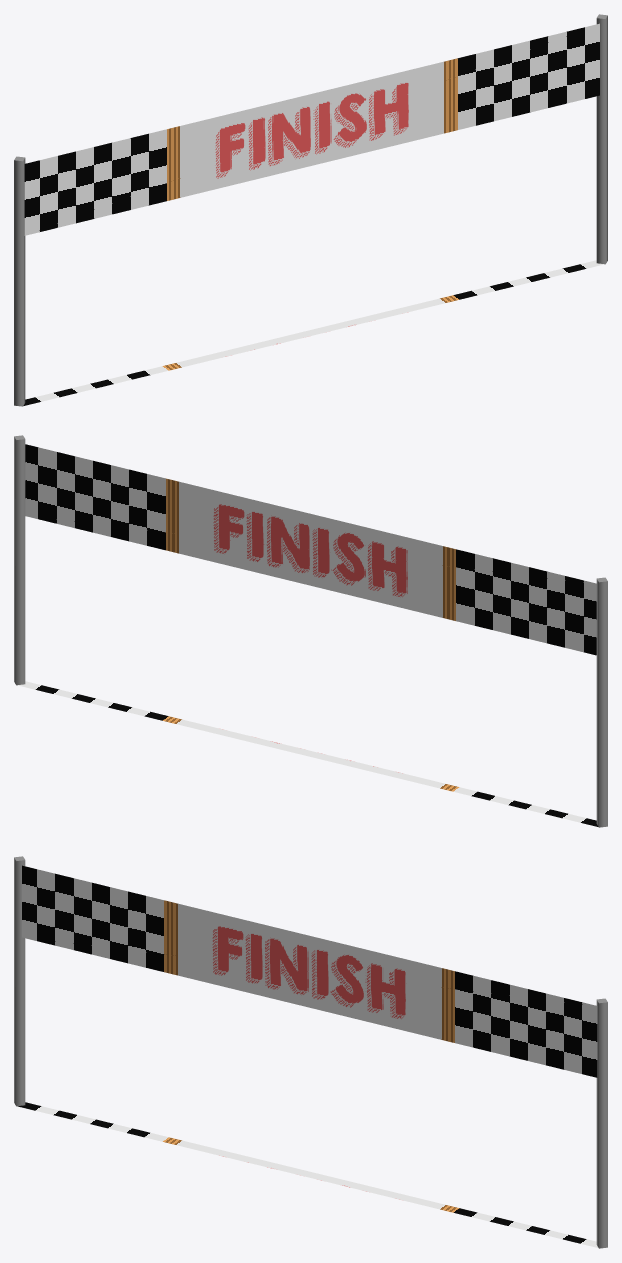
File: finish_flag.glb
3 renders of one model, top to bottom at view 1: azimuth 30°, elevation 25°; view 2: azimuth 150°, elevation 25°; view 3: azimuth 330°, elevation 25°, orthographic.
Parts seen in each view (by area): view 1: finish_flag, Cylinder; view 2: finish_flag, Cylinder; view 3: finish_flag, Cylinder.
Part boxes in pixels (x1=…): finish_flag: x1=23, y1=23, x2=603, y2=405; Cylinder: x1=14, y1=14, x2=607, y2=406; finish_flag: x1=18, y1=444, x2=598, y2=826; Cylinder: x1=14, y1=435, x2=607, y2=827; finish_flag: x1=18, y1=865, x2=598, y2=1247; Cylinder: x1=14, y1=856, x2=607, y2=1248.
Bounding box in the file's own units: 4.15 × 1.64 × 0.08.
2 materials, 1 textured.
